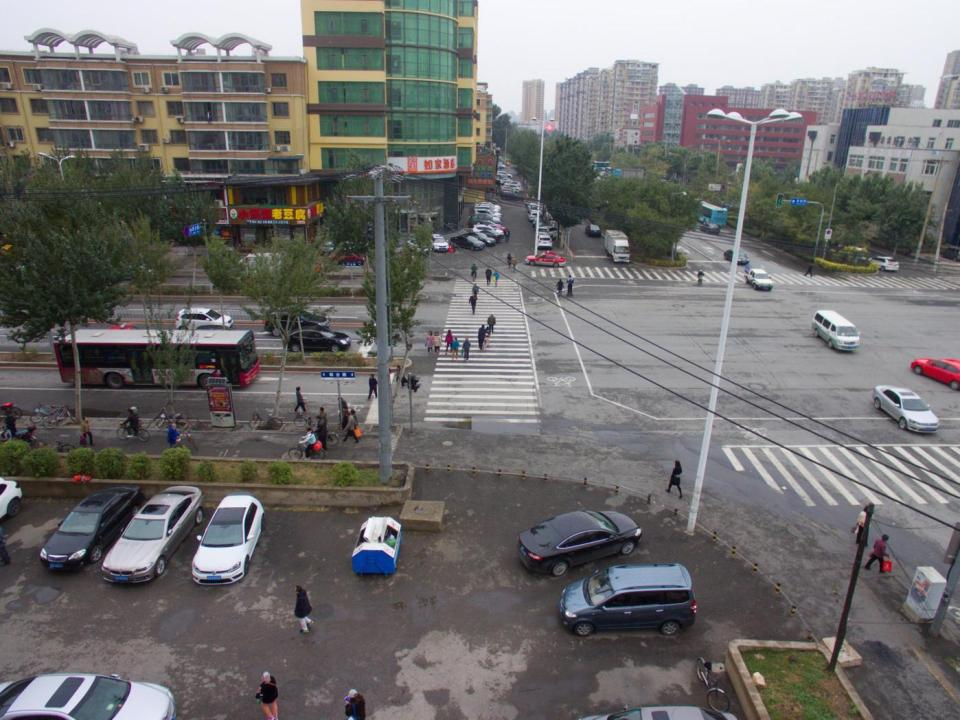bus: (54, 326, 260, 388), (681, 198, 728, 226), (588, 162, 623, 171)
car: (101, 483, 205, 587), (560, 564, 695, 639), (35, 488, 140, 579), (0, 671, 176, 719), (516, 510, 642, 576), (189, 492, 266, 587), (872, 385, 942, 435), (264, 307, 326, 338), (286, 328, 352, 352), (175, 308, 234, 332), (910, 359, 959, 386), (96, 324, 144, 340), (744, 267, 774, 291), (524, 251, 566, 267), (327, 248, 368, 264), (868, 256, 900, 274), (451, 235, 484, 252), (467, 214, 500, 229), (471, 224, 506, 238), (468, 232, 495, 249), (384, 236, 404, 258), (724, 250, 750, 266), (429, 233, 449, 252), (408, 238, 429, 256), (476, 210, 503, 224), (474, 221, 505, 232), (538, 226, 558, 241), (478, 229, 501, 242), (474, 200, 501, 211), (536, 234, 552, 251), (700, 222, 719, 236), (474, 206, 501, 215), (533, 216, 547, 232), (585, 223, 601, 236), (526, 204, 542, 217), (489, 224, 508, 233), (528, 210, 545, 220), (496, 171, 512, 179), (496, 162, 505, 168)
truck: (603, 230, 630, 265)
van: (813, 308, 862, 352), (238, 254, 291, 282)
